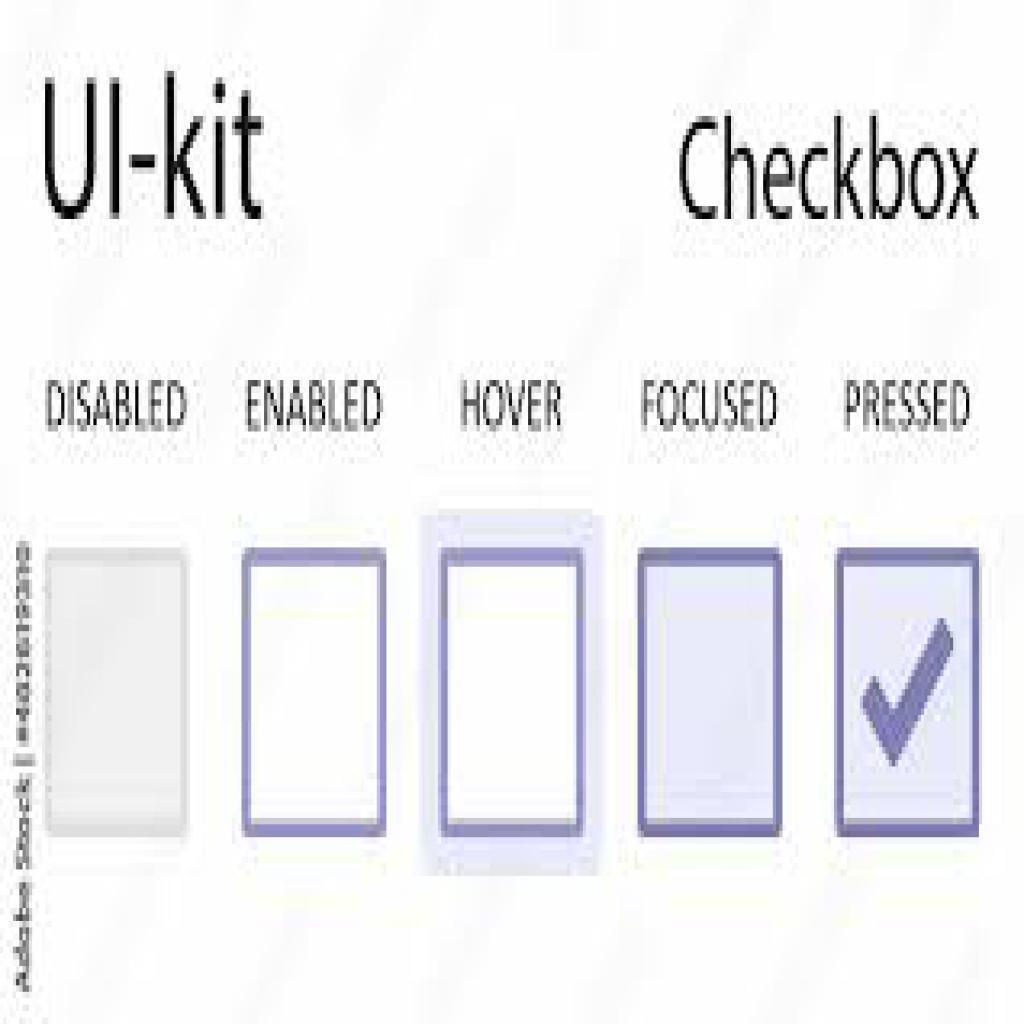checkbox: (640, 553, 783, 836), (44, 555, 190, 832), (840, 556, 985, 832), (246, 553, 384, 835), (444, 560, 582, 834)
label: (241, 372, 391, 439), (36, 374, 194, 437), (636, 370, 781, 433), (841, 375, 973, 432), (463, 370, 569, 437)
